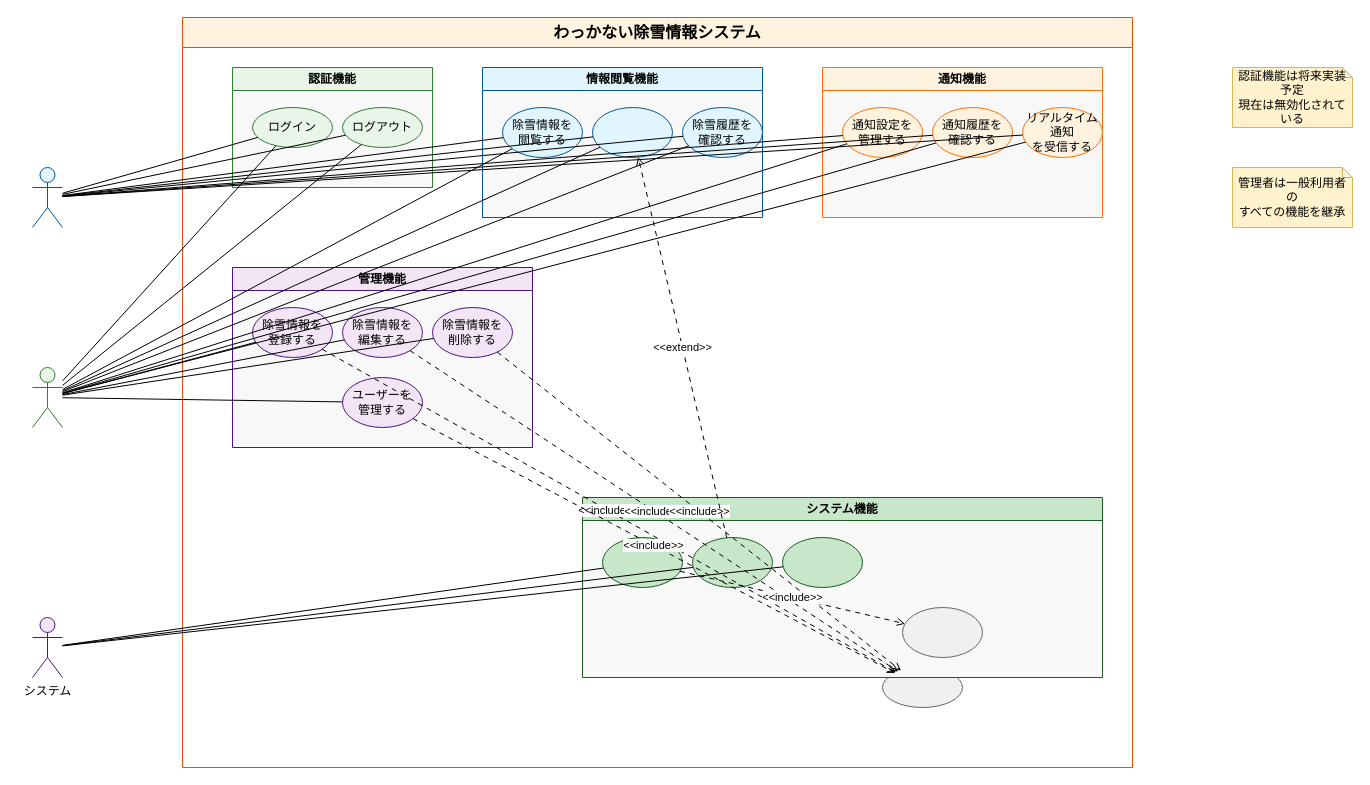
Image size: 1370x785. Some labels were removed from this diagram. Here are the shapes that lost their labels. From the top down, the centre of each, then its label:
[632,132]: 地図上で除雪 エリアを確認する
[47,197]: 一般利用者
[47,397]: 管理者
[642,562]: リアルタイム通知 を配信する
[732,562]: 地理情報を キャッシュする
[822,562]: 認証状態を 維持する
[942,632]: 通知設定を 確認する
[922,687]: 認証確認
